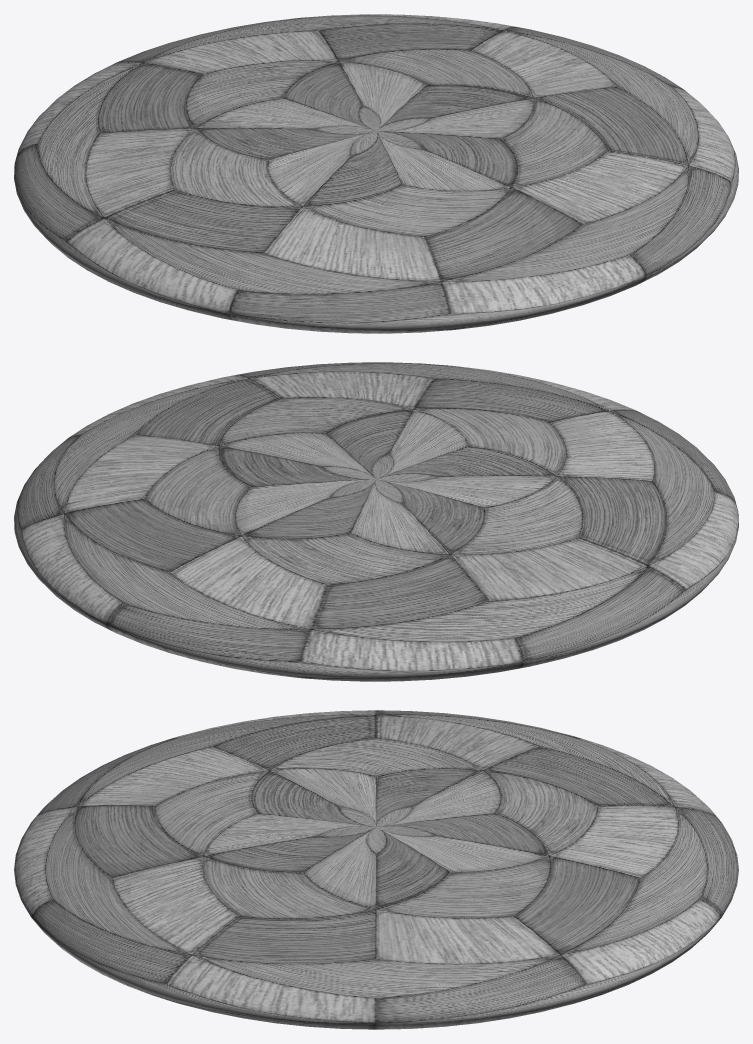
File: DiscGrey.glb
3 renders of one model, top to bottom at view 1: azimuth 30°, elevation 25°; view 2: azimuth 150°, elevation 25°; view 3: azimuth 270°, elevation 25°, orthographic.
Parts seen in each view (by area): view 1: Sphere; view 2: Sphere; view 3: Sphere.
Boxes of the visible parts, x1,y1,x2,y2 form: Sphere: [14, 14, 738, 333]; Sphere: [14, 362, 738, 681]; Sphere: [14, 710, 738, 1029].
Bounding box in the file's own units: 2 × 0.2604 × 2.
Materials: 1 (1 with a texture image).
